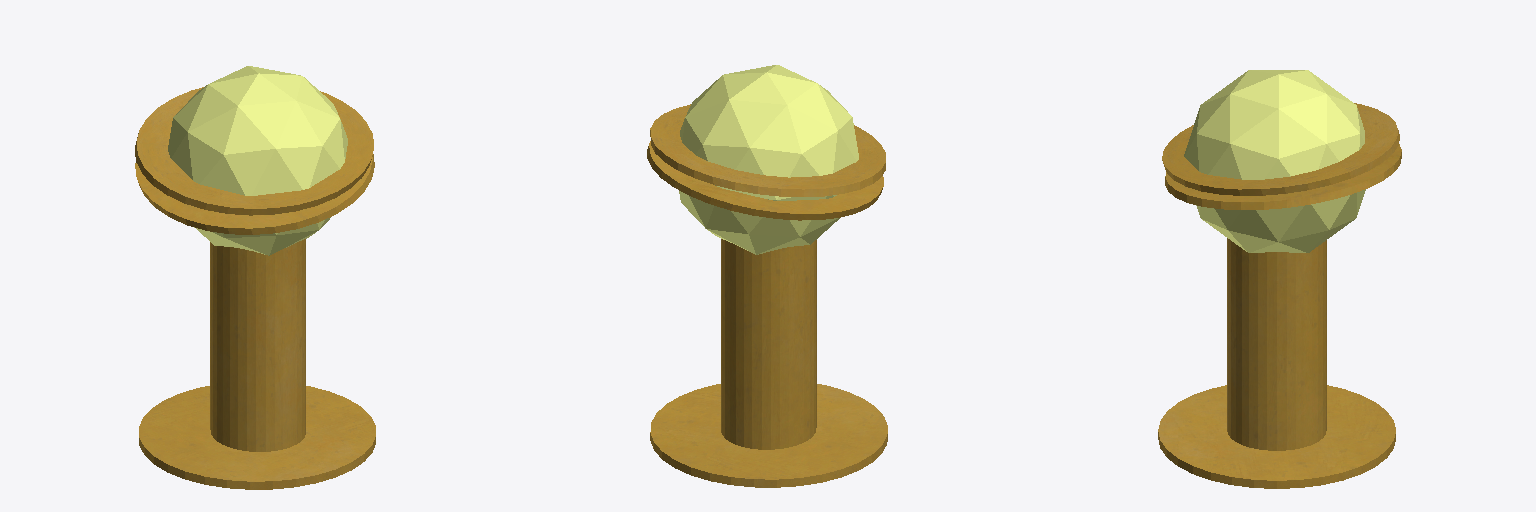
3 views of the same model, side by side, from view 1: azimuth 30°, elevation 25°; view 2: azimuth 150°, elevation 25°; view 3: azimuth 270°, elevation 25° (orthographic).
Parts seen in each view (by area): view 1: Lamp_Circle; view 2: Lamp_Circle; view 3: Lamp_Circle.
Part boxes in pixels (x1,y1,x2,y2): Lamp_Circle: (135, 66, 375, 489); Lamp_Circle: (647, 65, 887, 487); Lamp_Circle: (1158, 70, 1401, 488).
Bounding box in the file's own units: 2.02 × 3.38 × 2.05.
Materials: 1 (1 with a texture image).